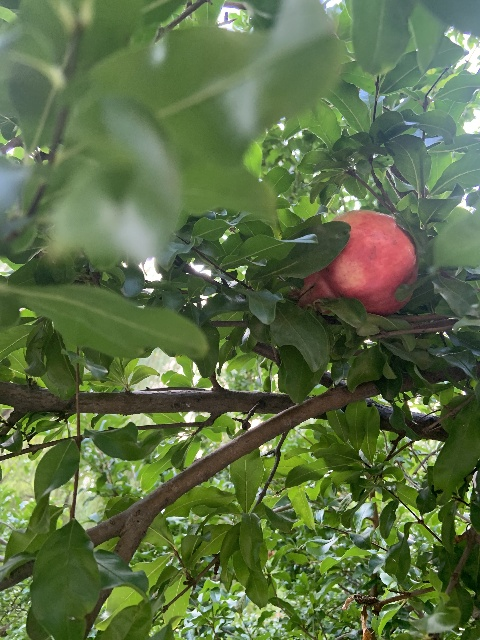ripe: (294, 211, 417, 316)
